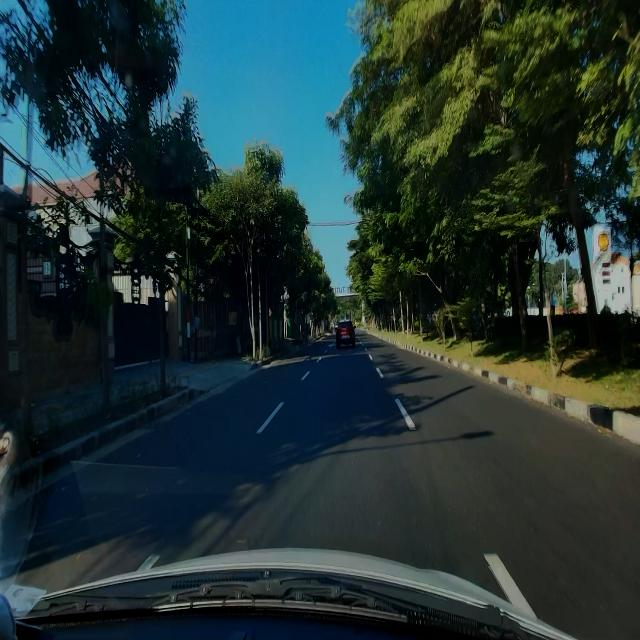car: (336, 320, 356, 349)
